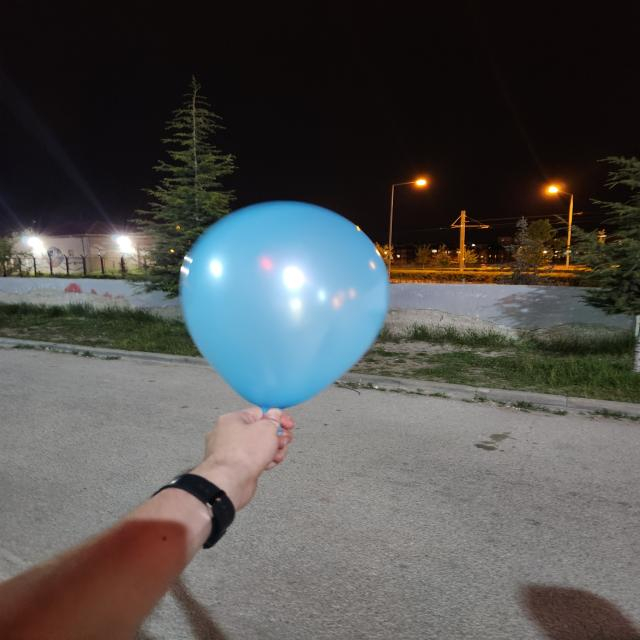red: (183, 202, 391, 411)
